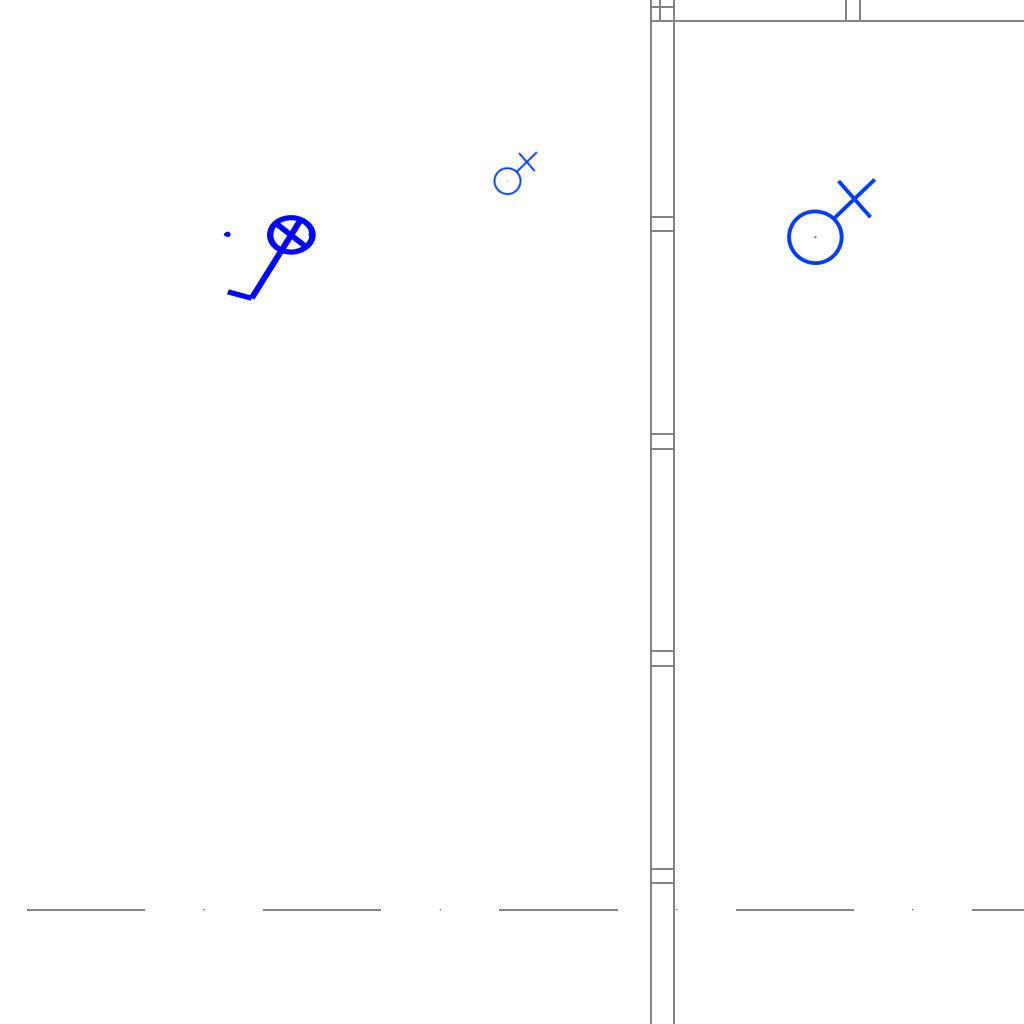Ausschalter_beleuchtet: (218, 213, 330, 309)
Elektroanschluss_allgemein_230V_Geraeteanschlussdose_230V: (778, 173, 877, 267), (489, 149, 538, 196)
